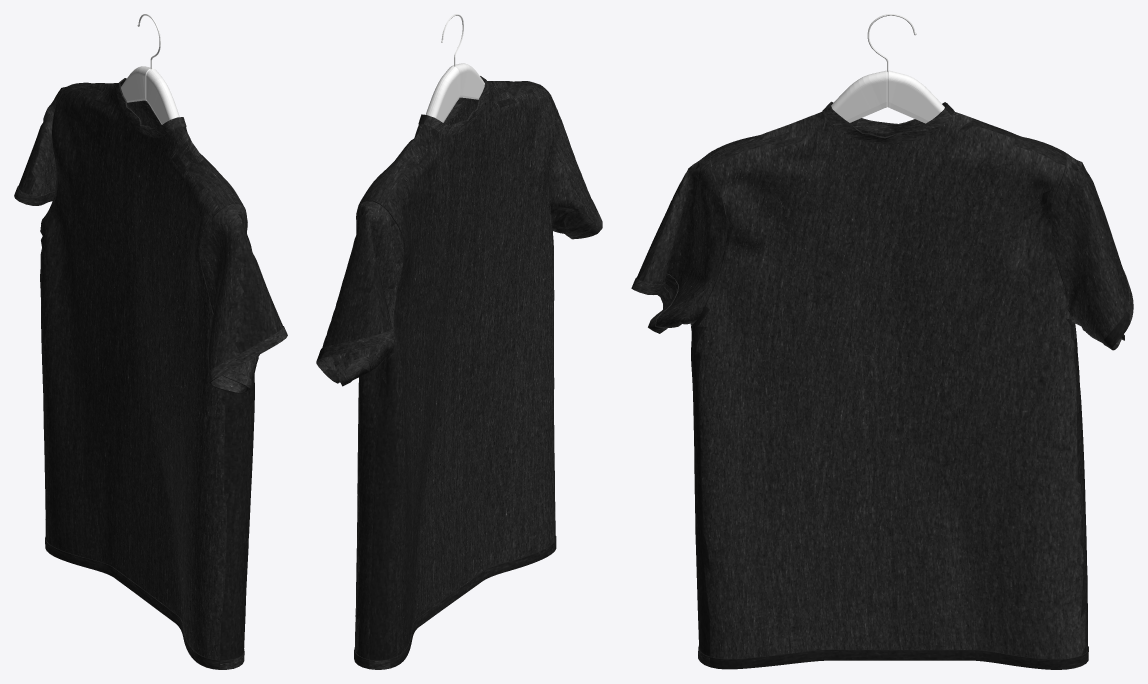
File: B_Shirt_R.glb
3 renders of one model, left to right at view 1: azimuth 30°, elevation 25°; view 2: azimuth 150°, elevation 25°; view 3: azimuth 270°, elevation 25°, orthographic. The views are drawn at different scales.
Parts seen in each view (by area): view 1: model__145, model__138; view 2: model__145, model__138; view 3: model__145, model__138.
Part boxes in pixels (x1,y1,x2,y2): model__145: (14,78,287,669); model__138: (121,14,179,124); model__145: (316,76,602,669); model__138: (425,14,484,122); model__145: (631,101,1133,669); model__138: (831,14,944,123).
Bounding box in the file's own units: 0.037 × 0.2619 × 0.1843.
3 materials, 1 textured.
